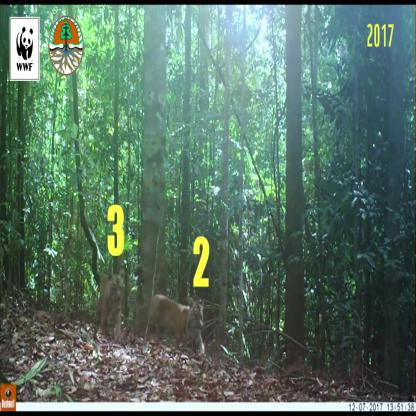Tiger: (141, 278, 212, 376), (97, 256, 134, 344)
